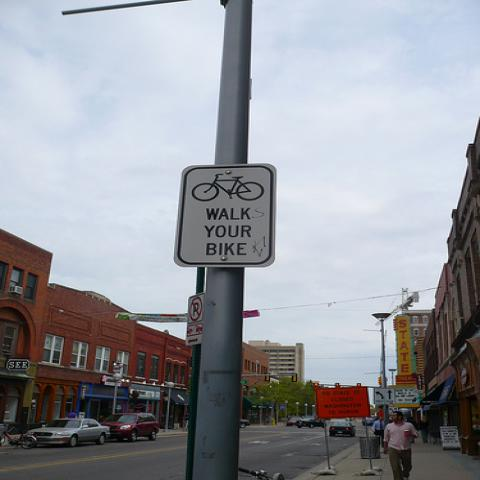car: (25, 418, 111, 447), (116, 415, 161, 439), (329, 421, 357, 437), (297, 416, 327, 429), (362, 416, 377, 426), (287, 416, 301, 426), (239, 419, 250, 428)
motorcycle: (0, 423, 38, 449)
